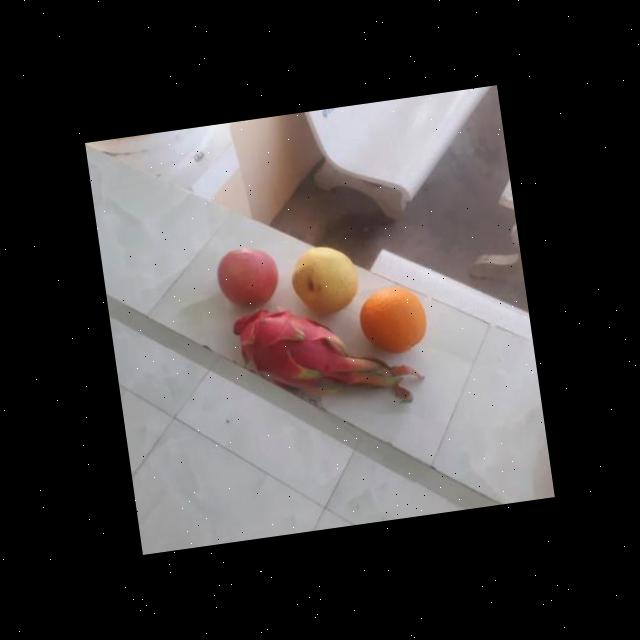apple: (209, 242, 284, 311)
orange: (354, 282, 429, 358)
pear: (286, 242, 364, 318)
pitaya: (230, 300, 346, 394)
